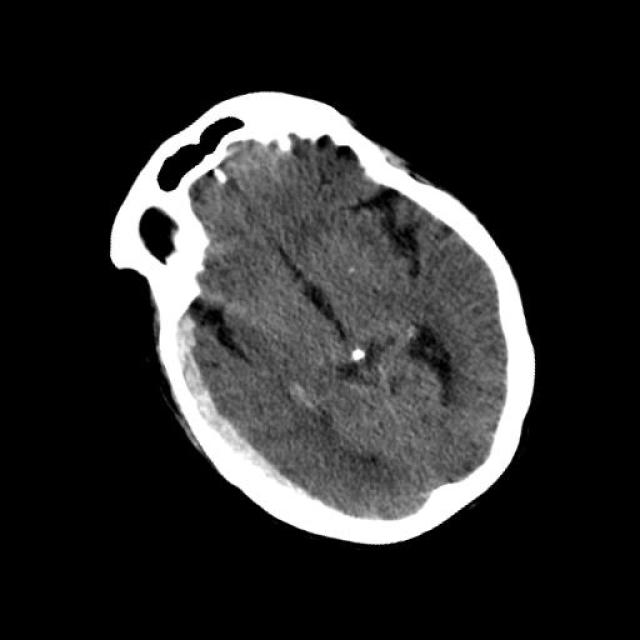Subdural: (131, 285, 330, 570)
